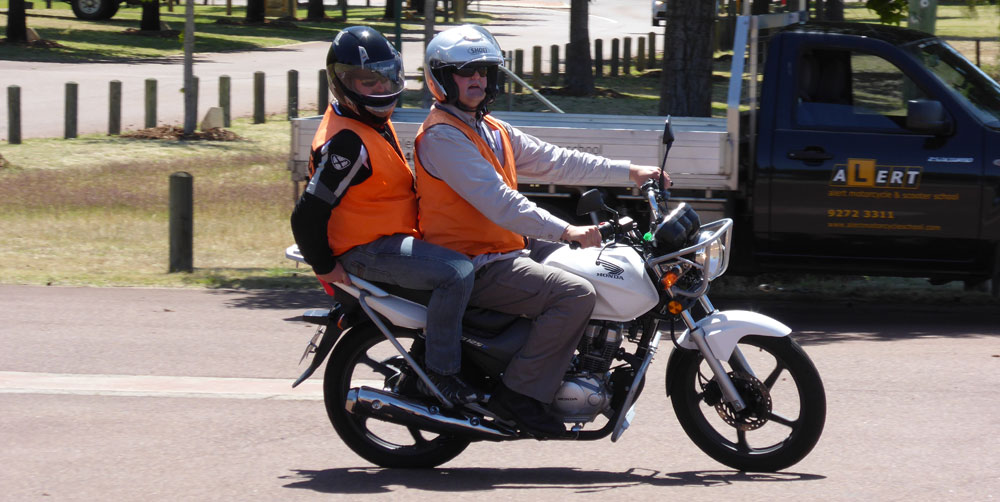helmet: (310, 15, 414, 119), (411, 24, 506, 117)
